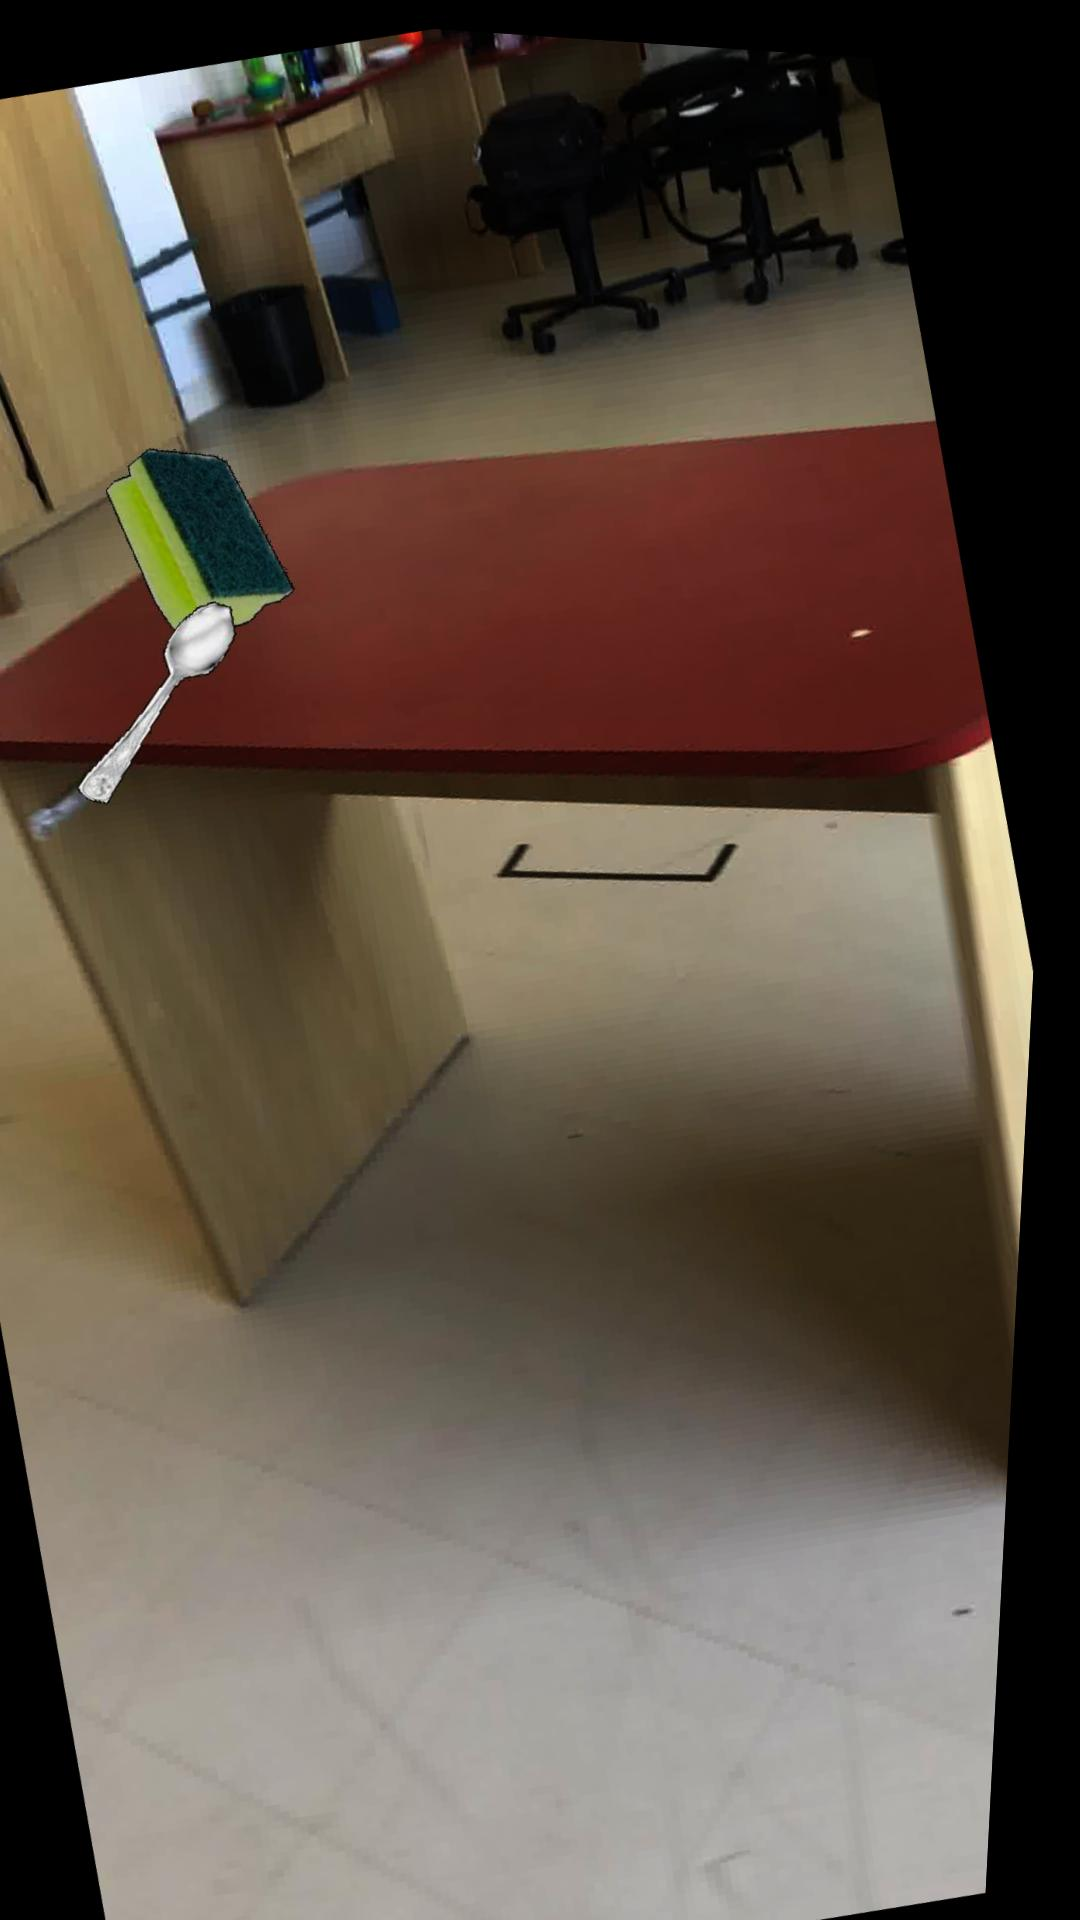sponge: (109, 444, 299, 626)
spoon: (84, 596, 241, 800)
